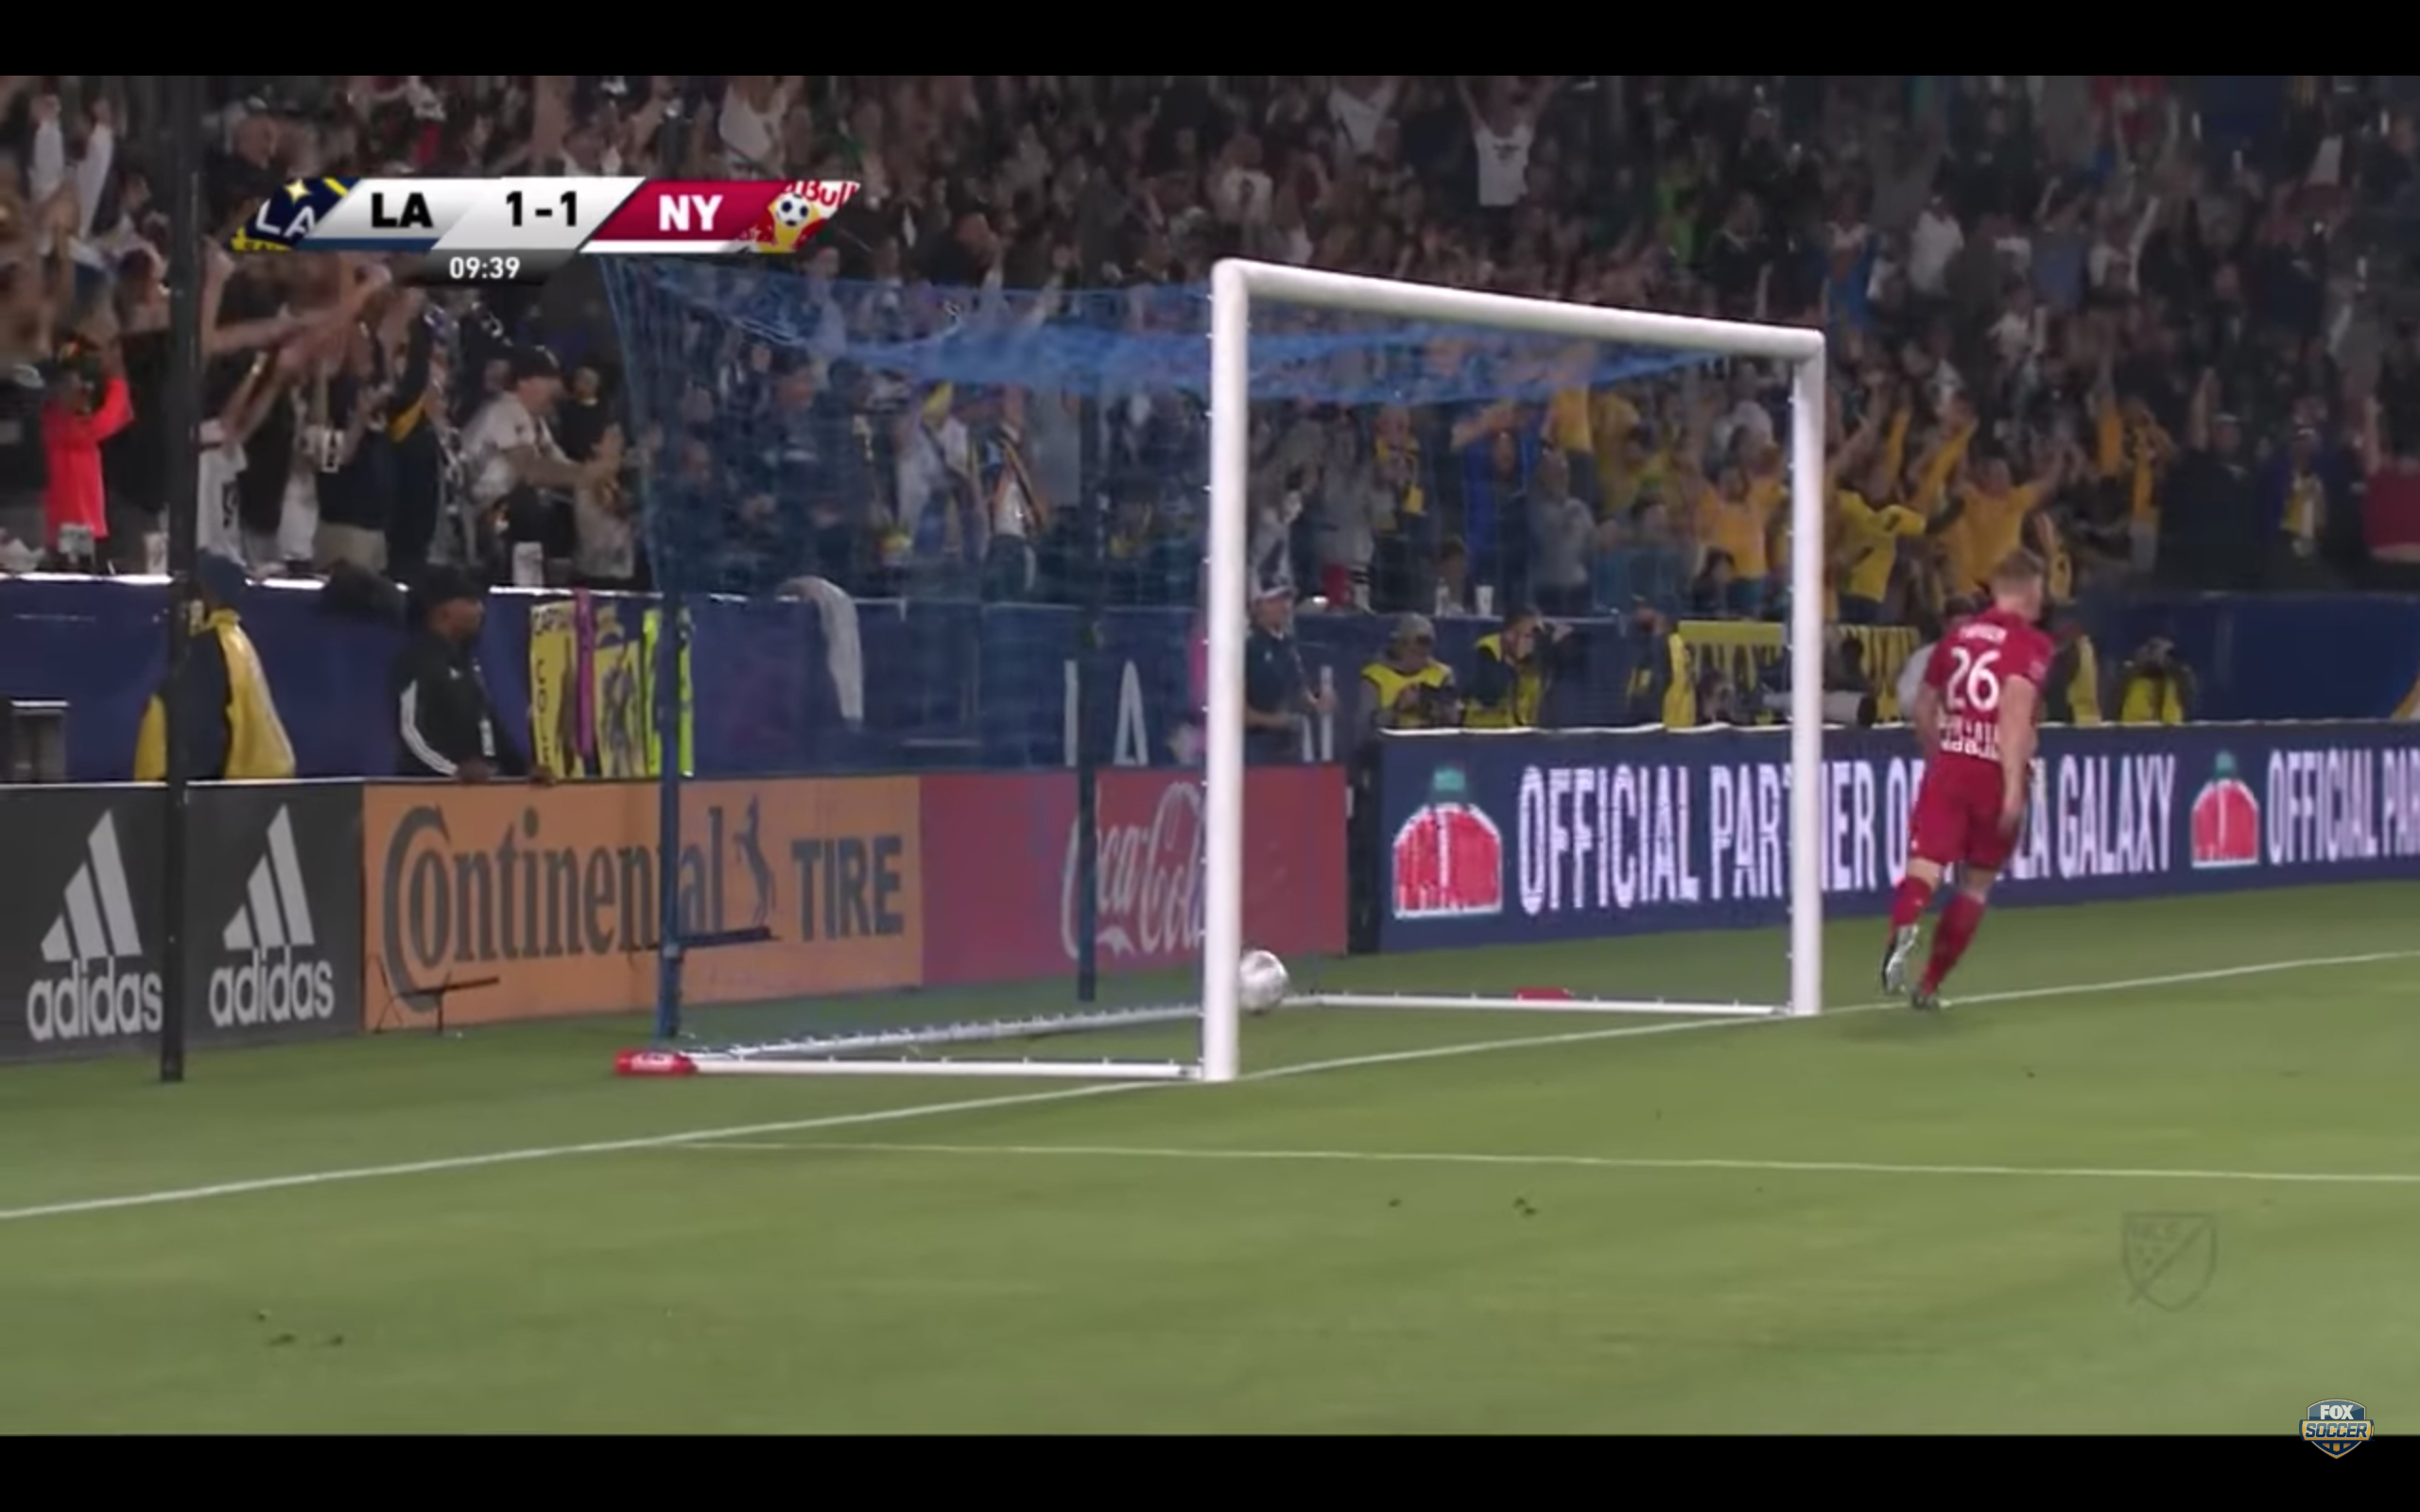soccer player: (1883, 554, 2072, 1029)
soccerball: (1223, 939, 1300, 1026)
